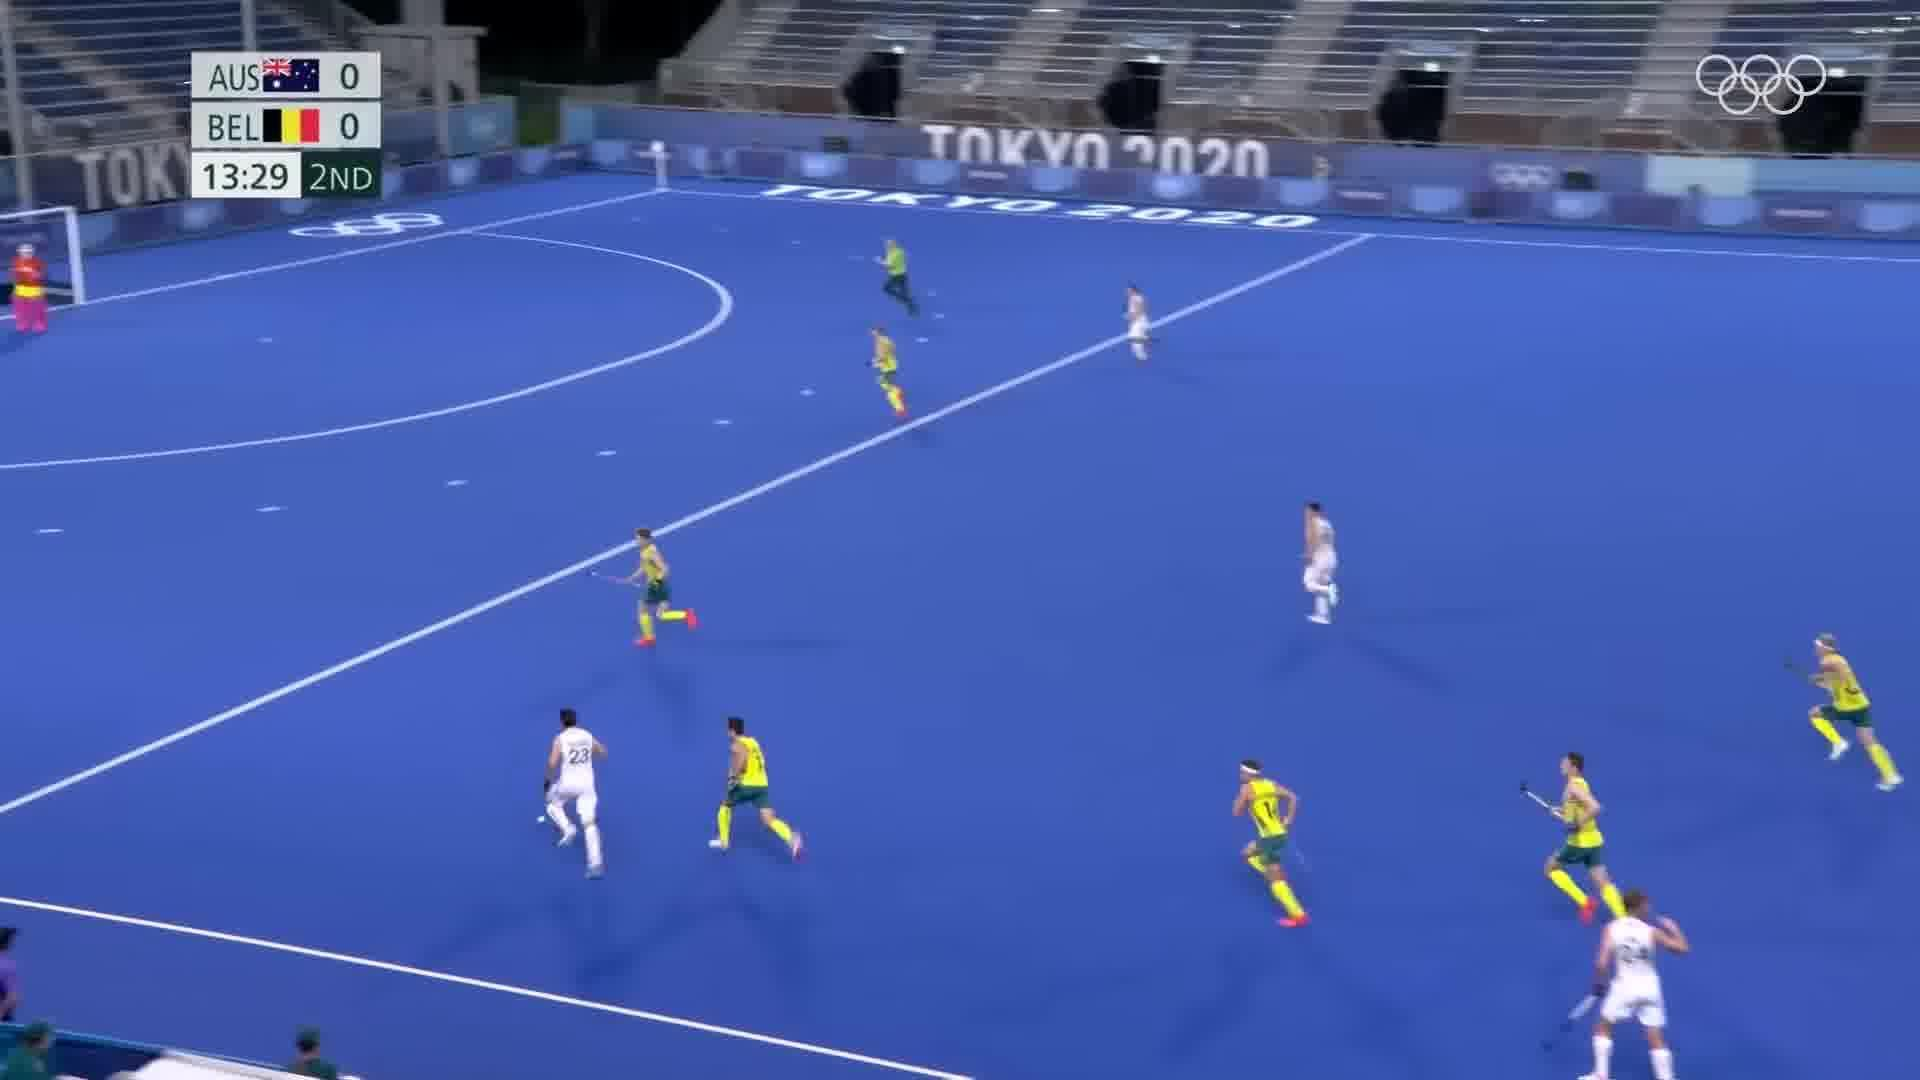ball: (529, 806, 556, 829)
